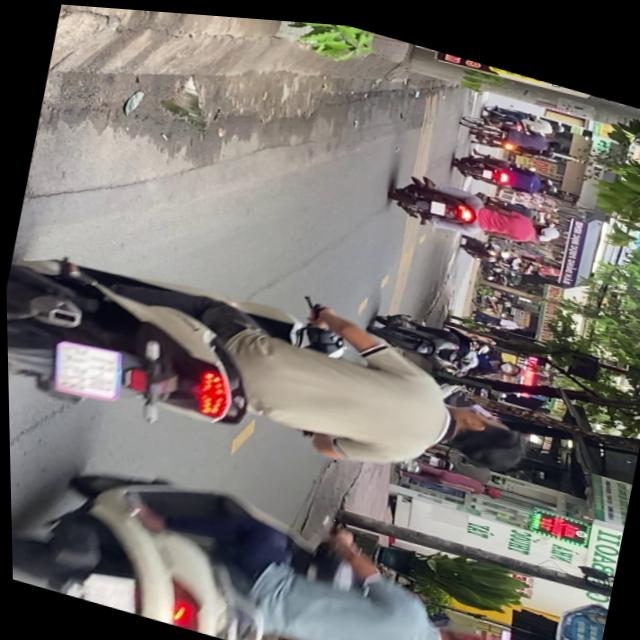helmet: (425, 609, 522, 640), (496, 351, 524, 370)
licenseplate: (4, 214, 546, 521), (7, 428, 541, 640), (363, 297, 530, 385)
motorcyclist: (429, 390, 529, 471)
nohelmet: (49, 335, 126, 405), (81, 567, 137, 612)
